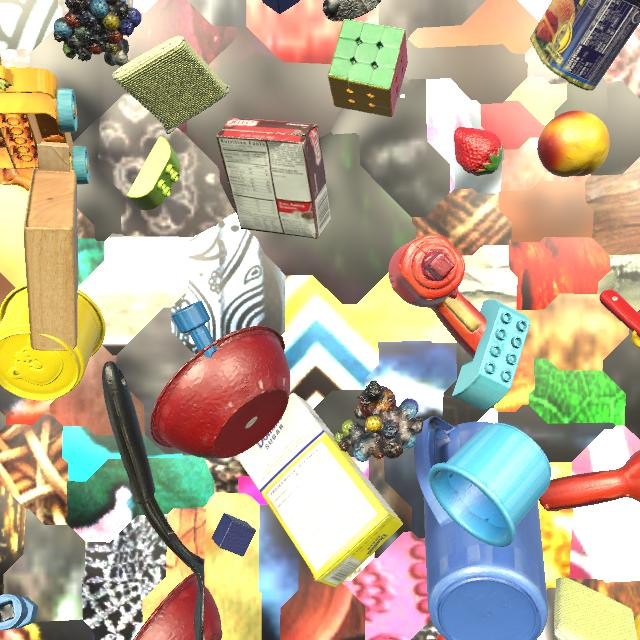ycb_004_sugar_box: (236, 392, 403, 588)
ycb_008_pudding_box: (216, 117, 331, 239)
ycb_010_potted_meat_can: (530, 0, 640, 91)
ycb_012_strawberry: (454, 127, 503, 176)
ycb_014_lemon: (634, 612, 640, 640)
ycb_015_peach: (537, 110, 610, 177)
